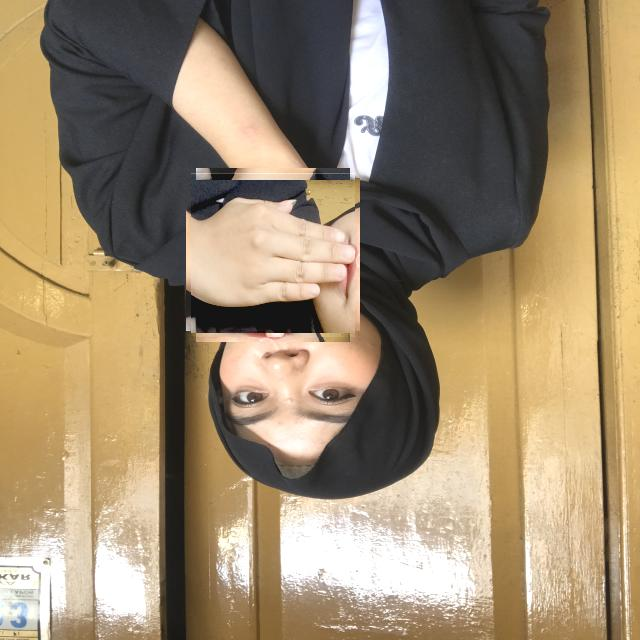ganteng: (191, 172, 355, 336)
